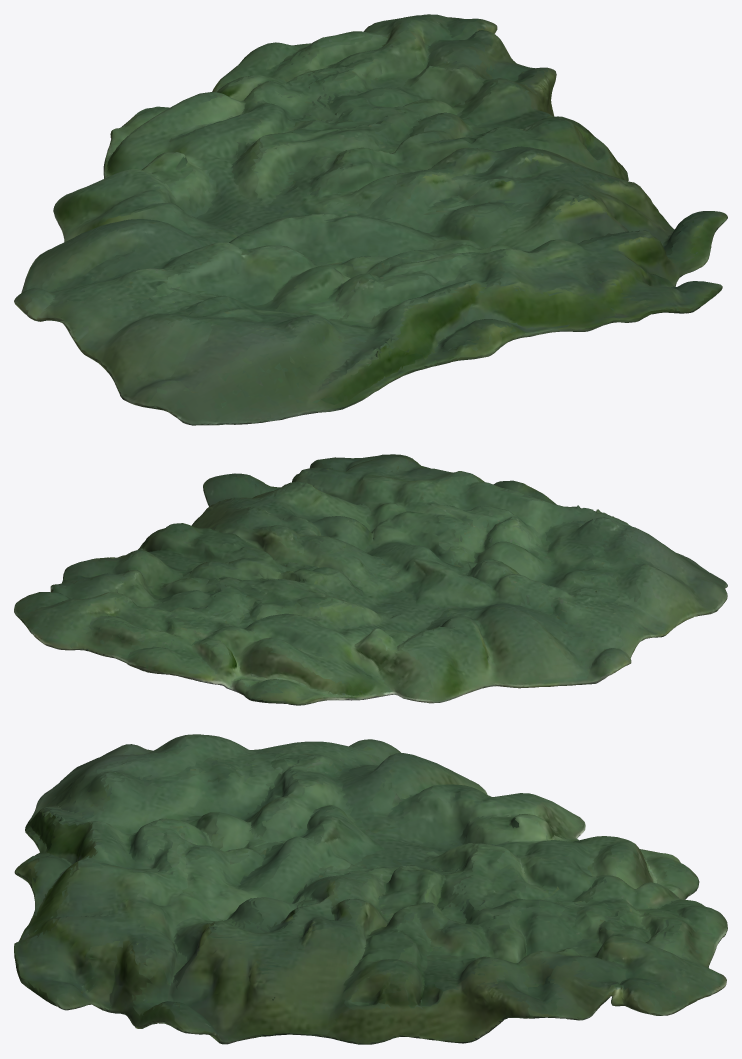
Rendered from moss-sprig-v8.glb.
3 renders of one model, top to bottom at view 1: azimuth 30°, elevation 25°; view 2: azimuth 150°, elevation 25°; view 3: azimuth 270°, elevation 25°, orthographic. The views are drawn at different scales.
Parts seen in each view (by area): view 1: geometry_0; view 2: geometry_0; view 3: geometry_0.
Boxes of the visible parts, x1=… form: geometry_0: x1=14, y1=14, x2=727, y2=425; geometry_0: x1=14, y1=454, x2=727, y2=705; geometry_0: x1=14, y1=734, x2=727, y2=1044.
Bounding box in the file's own units: 0.3 × 0.0341 × 0.3002.
1 material, 1 textured.
